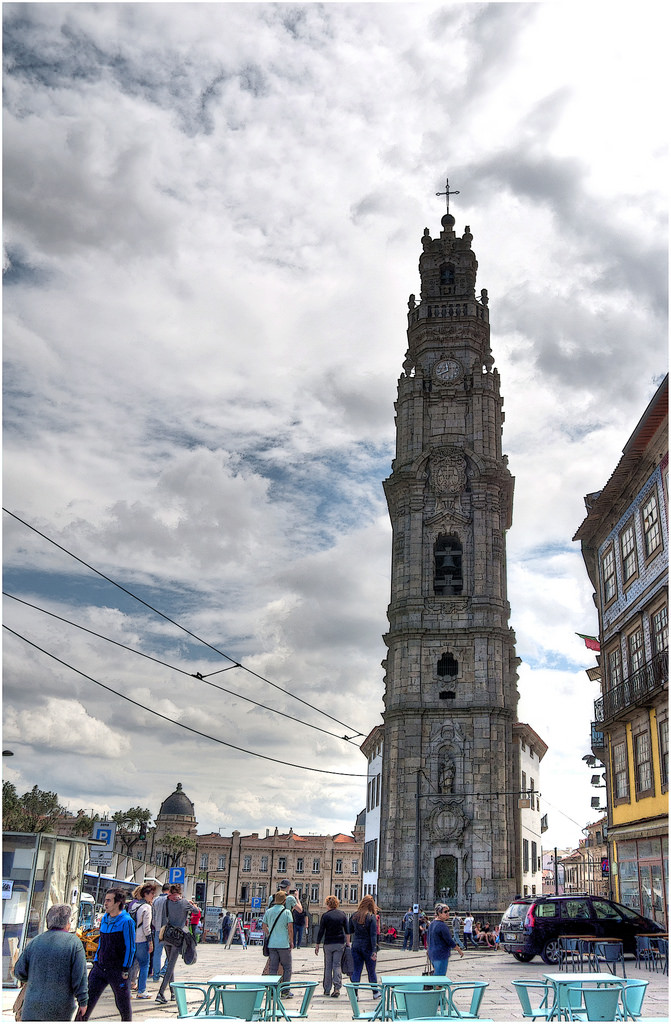clerigos: (376, 182, 523, 920)
